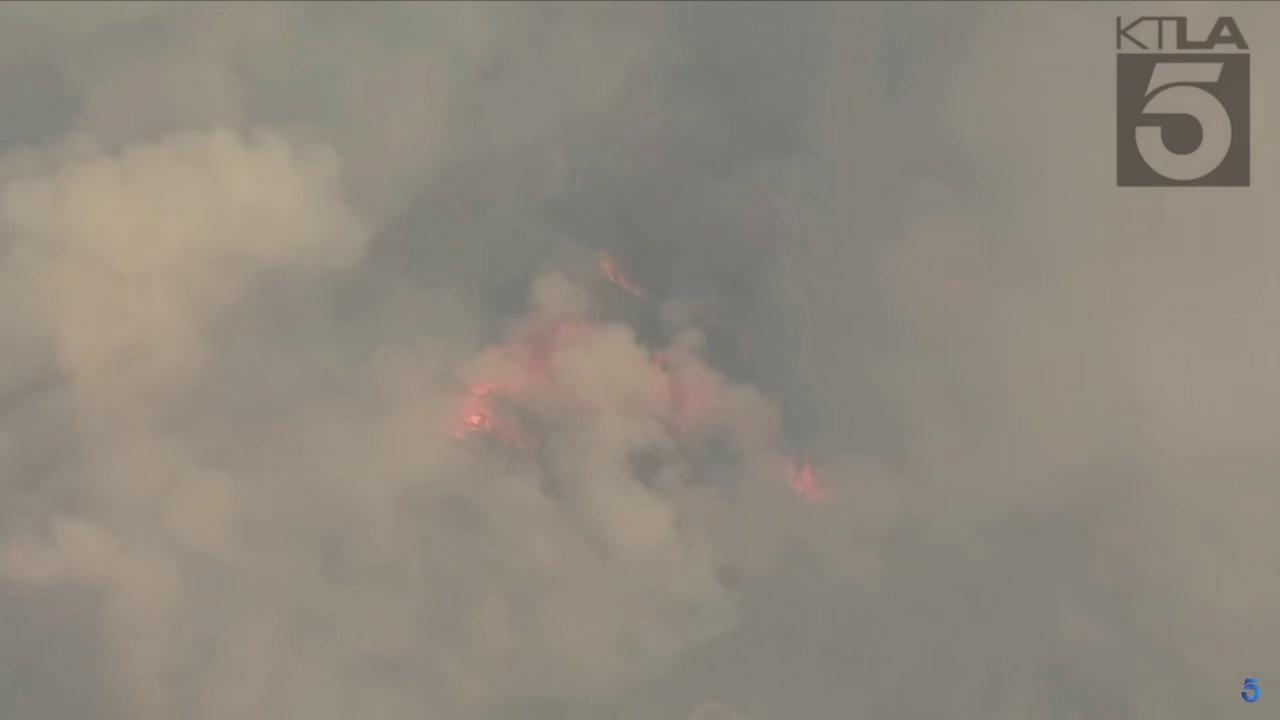fire: (446, 317, 592, 446), (782, 443, 825, 511), (601, 248, 644, 300)
smoke: (0, 0, 1280, 720)
